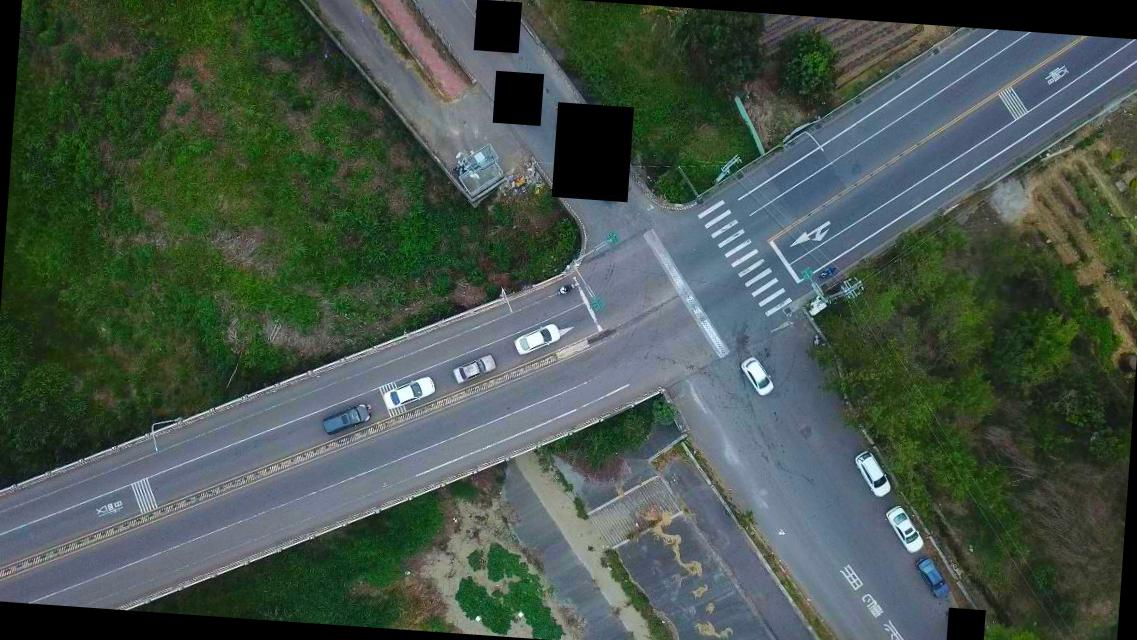vehicle: (379, 371, 437, 413), (318, 399, 374, 438), (852, 447, 894, 498), (883, 506, 926, 554), (514, 318, 564, 357), (452, 347, 498, 385), (738, 356, 778, 398), (914, 555, 952, 599)
